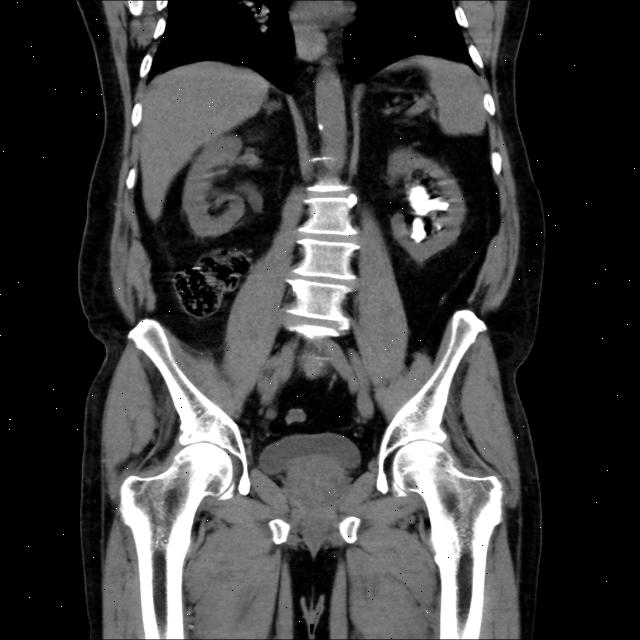kidneystone: (409, 185, 450, 216), (411, 218, 427, 242)
